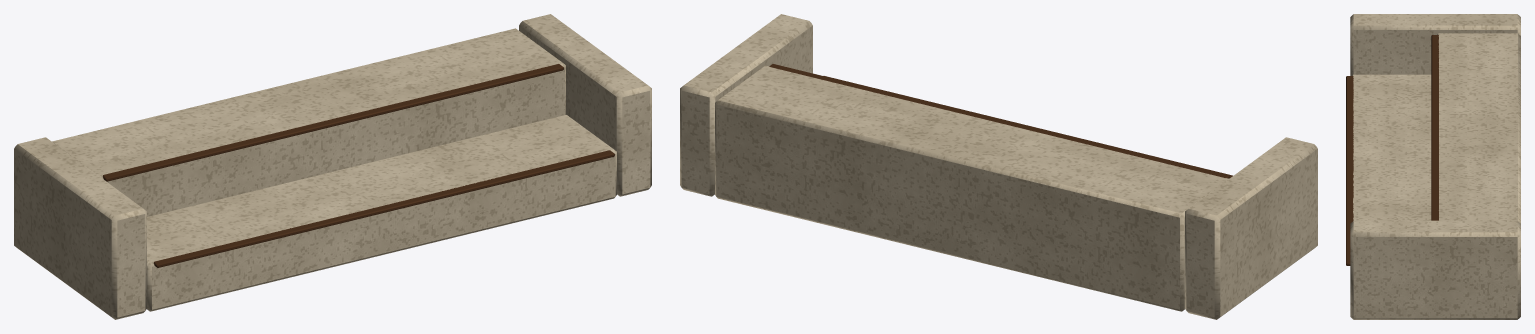
The model's file is observatory-plinth-steps.lod1.glb.
3 renders of one model, left to right at view 1: azimuth 30°, elevation 25°; view 2: azimuth 150°, elevation 25°; view 3: azimuth 270°, elevation 25°, orthographic. The views are drawn at different scales.
Parts seen in each view (by area): view 1: observatory_plinth_steps_Stone • warm limestone, observatory_plinth_steps_Trim • places palette; view 2: observatory_plinth_steps_Stone • warm limestone, observatory_plinth_steps_Trim • places palette; view 3: observatory_plinth_steps_Stone • warm limestone, observatory_plinth_steps_Trim • places palette.
Part boxes in pixels (bbox=[...]): observatory_plinth_steps_Stone • warm limestone: bbox=[14, 14, 651, 319]; observatory_plinth_steps_Trim • places palette: bbox=[103, 64, 614, 267]; observatory_plinth_steps_Stone • warm limestone: bbox=[680, 14, 1317, 319]; observatory_plinth_steps_Trim • places palette: bbox=[769, 64, 1232, 178]; observatory_plinth_steps_Stone • warm limestone: bbox=[1350, 14, 1520, 319]; observatory_plinth_steps_Trim • places palette: bbox=[1346, 35, 1438, 265].
Size of the model in its own units: 1.84 by 0.34 by 0.615.
Materials: 2 (2 with a texture image).
